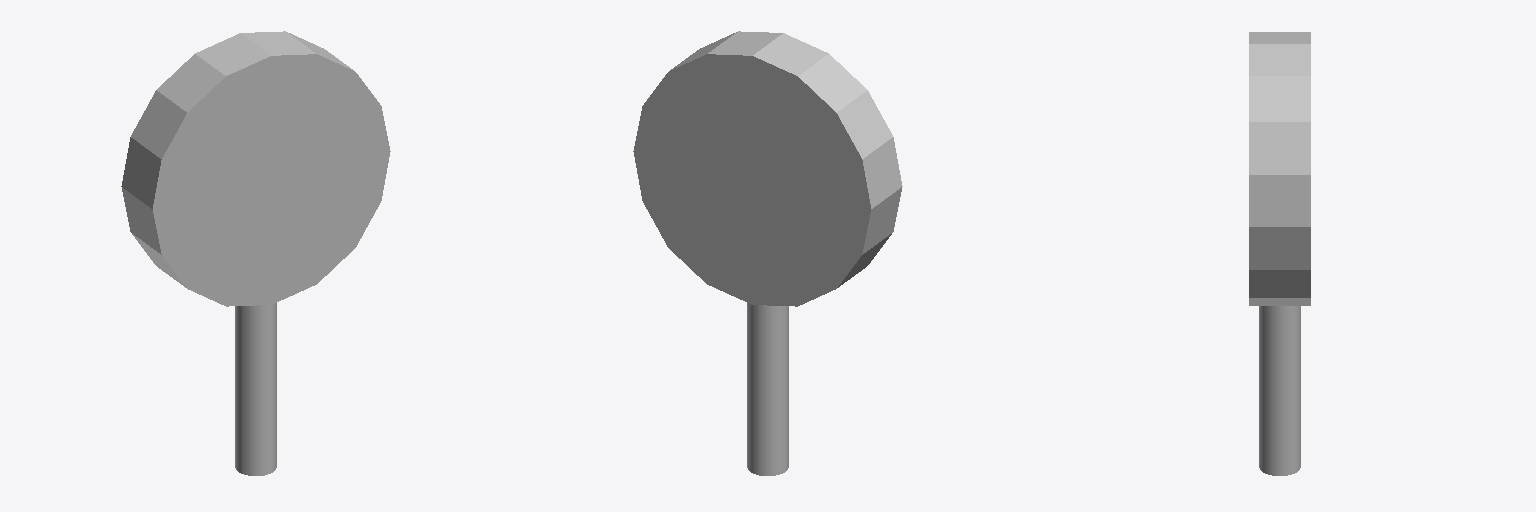
The model's file is lollipopB.obj.
The picture shows the model from 3 angles: view 1: azimuth 30°, elevation 25°; view 2: azimuth 150°, elevation 25°; view 3: azimuth 270°, elevation 25°; orthographic projection.
Visible parts, largest first — view 1: obj0, obj1; view 2: obj0, obj1; view 3: obj0, obj1.
Part boxes in pixels (x1,y1,x2,y2): obj0: (121, 31, 390, 306); obj1: (235, 303, 276, 475); obj0: (633, 31, 902, 306); obj1: (747, 303, 788, 475); obj0: (1249, 32, 1310, 305); obj1: (1259, 306, 1300, 475).
Bounding box in the file's own units: 25.4 × 43.14 × 5.76.